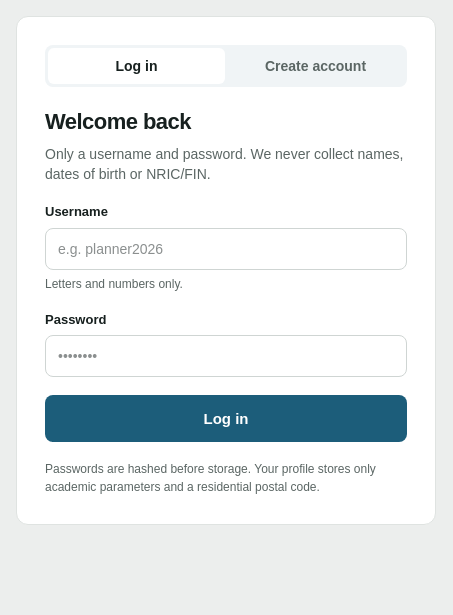
Test: LoginView (UC-2.1, UC-2.2) › login form › shows a generic message when the server cannot be reached
The width and height of the screenshot is (453, 615).
Type "planner2026" into the field labelled "Username" at (226, 248), box [45, 228, 407, 270]
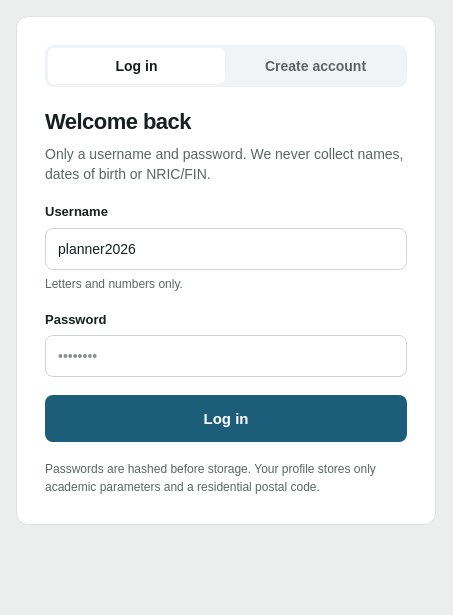
Type "abcd123!" into the password field labelled "Password" at (226, 356), box [45, 335, 407, 377]
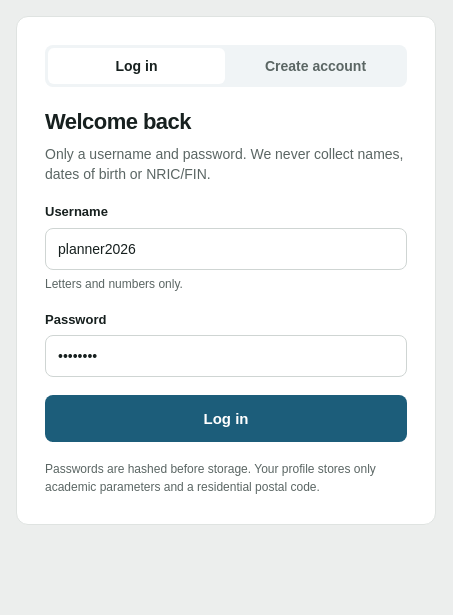
Submit the form
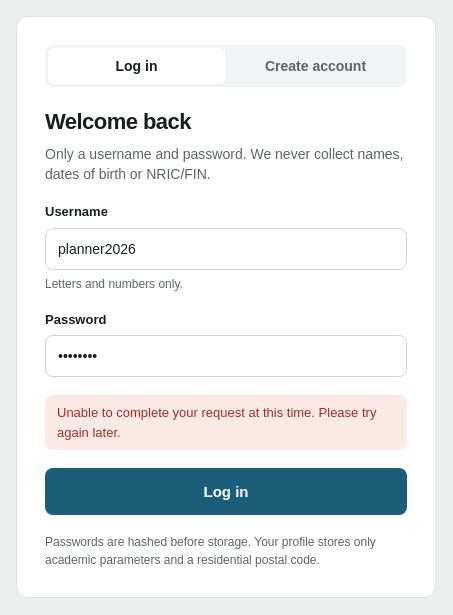
Now the message "Unable to complete your request at this time. Please try again later." is shown, box [45, 395, 407, 450]
